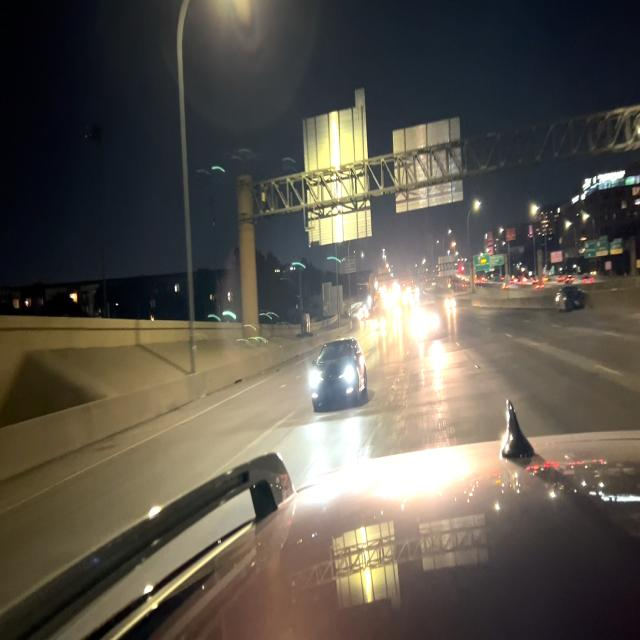back-of-sign: (300, 88, 373, 245), (391, 116, 465, 211), (322, 279, 343, 318), (437, 251, 458, 279)
